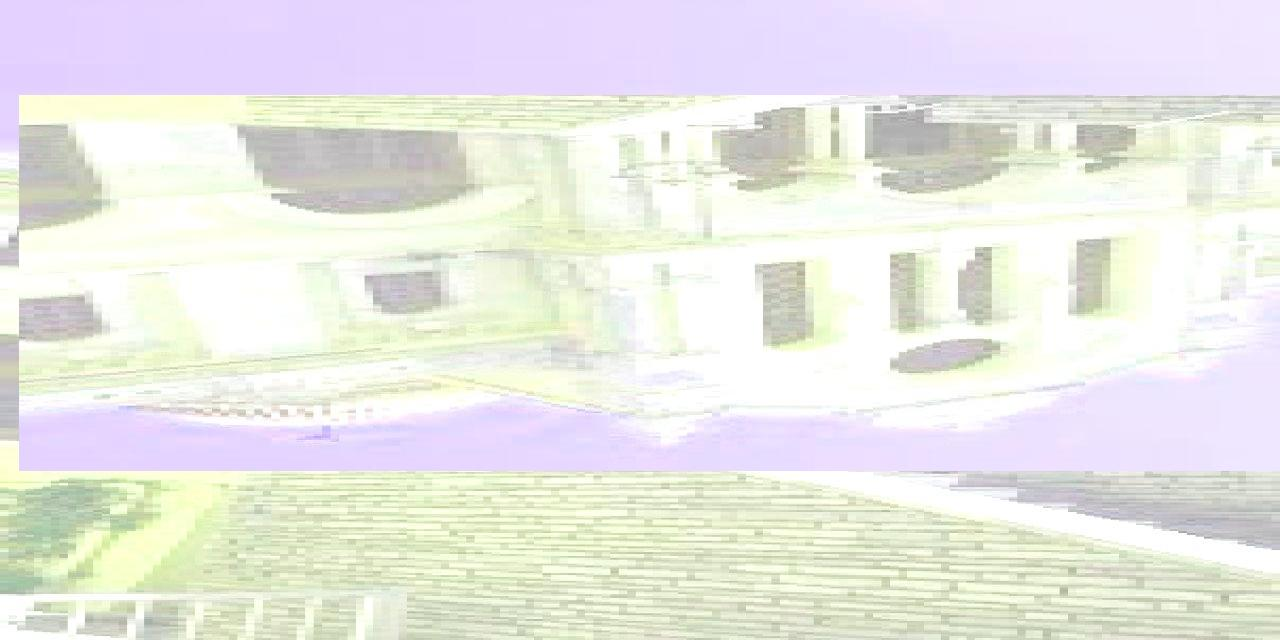Agios Minas: (20, 96, 1280, 472)
